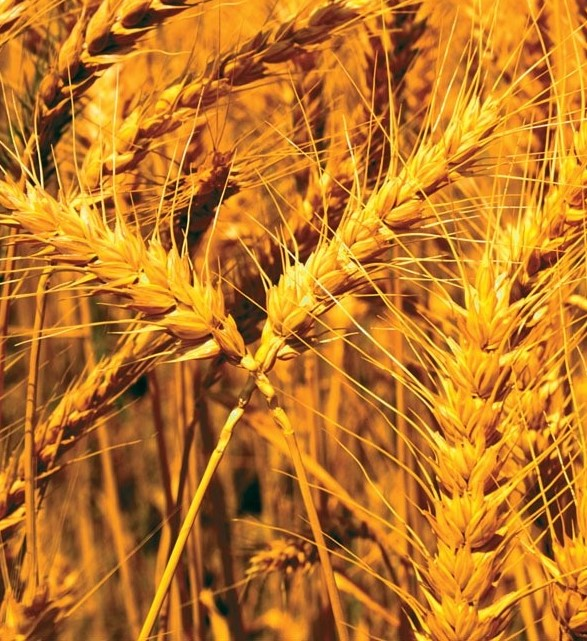Healthy Wheat: (5, 183, 231, 353)
